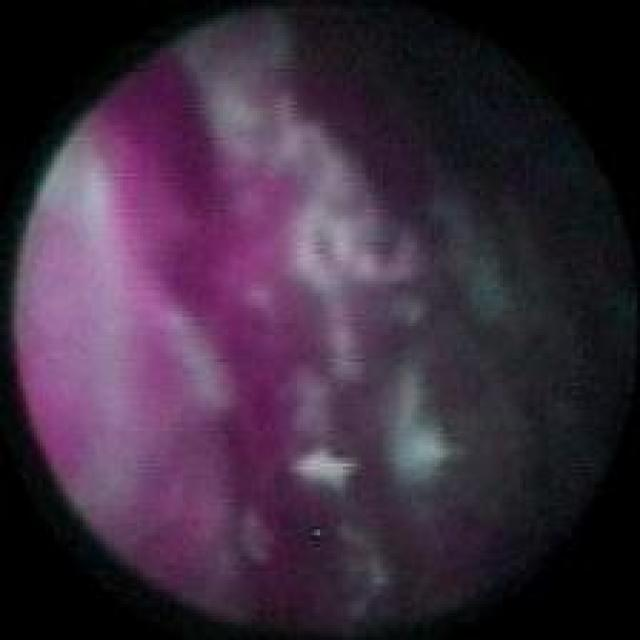blur: (59, 50, 599, 589)
contrast: (353, 38, 626, 601)
